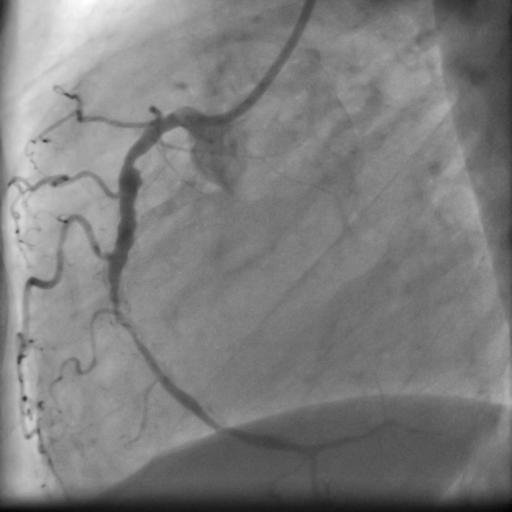Stenosis: (122, 145, 142, 169)
